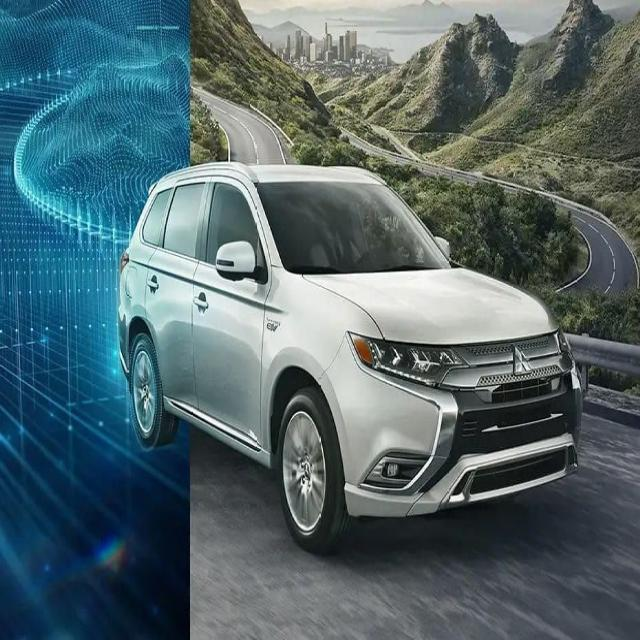light_vehicle: (116, 160, 586, 553)
